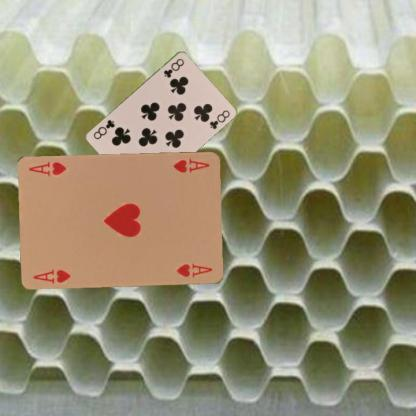8c: (162, 56, 186, 78)
Ah: (171, 155, 211, 174), (30, 266, 72, 284)
